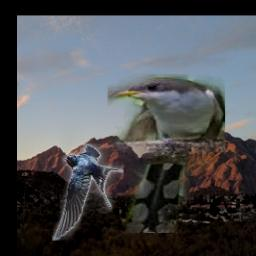Cuckoo: (108, 75, 225, 234)
Swallow: (52, 144, 124, 242)
